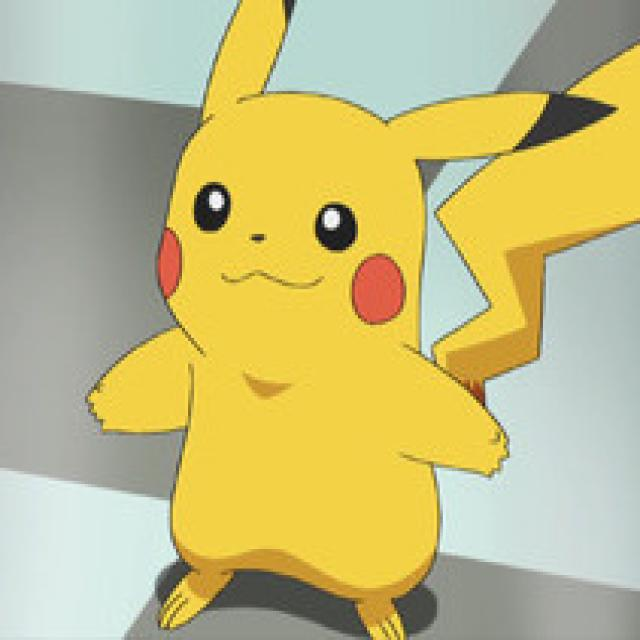Pikachu: (145, 74, 515, 612)
